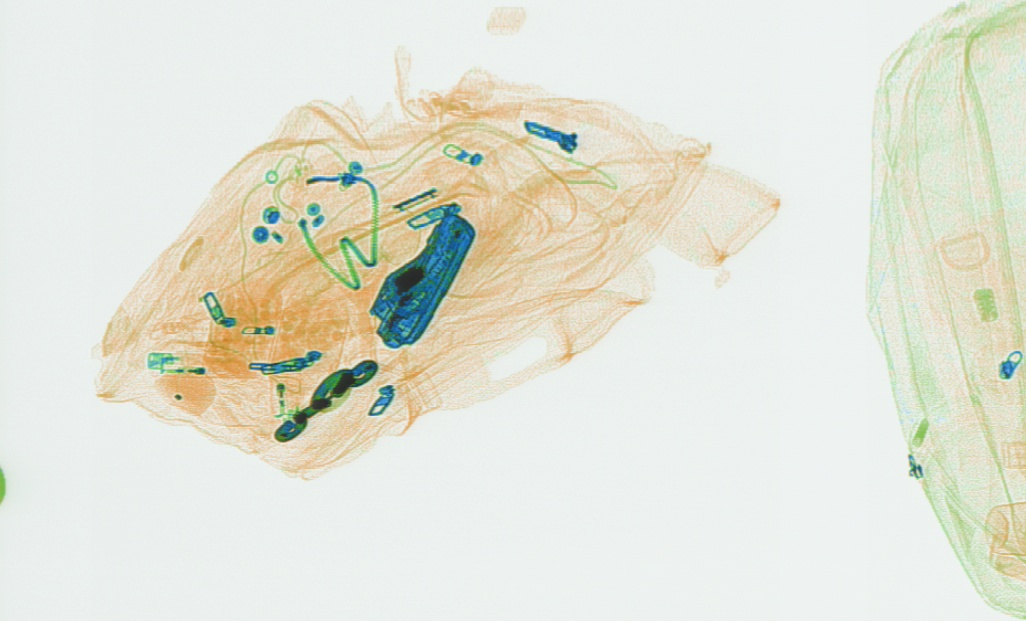lighter: (265, 326, 299, 425), (145, 350, 253, 381)
slingshot: (272, 357, 377, 441)
